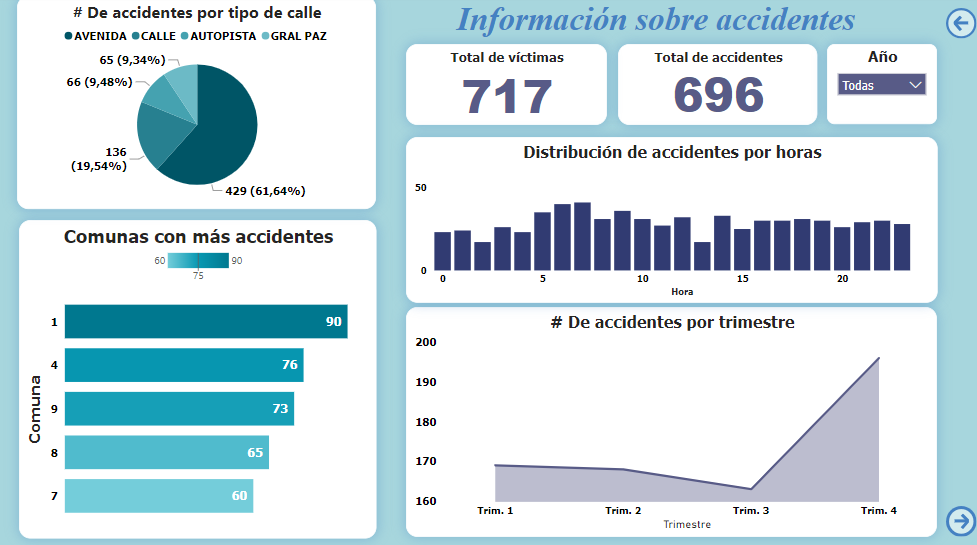

Layout of this report page (visuals, bound fields, positions):
{"tool":"powerbi","page":{"name":"Hechos","canvas":[1280,720],"ordinal":2},"visuals":[{"type":"card","title":"Total de accidentes","fields":{"Values":["CountNonNull(Hechos.N_VICTIMAS)"]},"box":[808.6,62.9,261.4,105.7],"z":0},{"type":"clusteredBarChart","title":"Comunas con más accidentes ","fields":{"Category":["Hechos.COMUNA"],"Y":["CountNonNull(Hechos.N_VICTIMAS)"]},"box":[25,293.3,468.3,416.7],"z":1000},{"type":"stackedAreaChart","title":"# De accidentes por trimestre","fields":{"Category":["Hechos.FECHA.Variación.Jerarquía de fechas.Trimestre"],"Y":["CountNonNull(Hechos.N_VICTIMAS)"]},"box":[531.4,419,695.5,301],"z":2000},{"type":"slicer","title":"Año","fields":{"Values":["Hechos.FECHA.Variación.Jerarquía de fechas.Año"]},"box":[1082.9,63.4,144,105.1],"z":3000},{"type":"card","title":"Total de víctimas","fields":{"Values":["Sum(Hechos.N_VICTIMAS)"]},"box":[531.4,62.9,262.9,105.7],"z":4000},{"type":"pieChart","title":"# De accidentes por tipo de calle","fields":{"Category":["Hechos.TIPO_DE_CALLE"],"Y":["CountNonNull(Hechos.N_VICTIMAS)"]},"box":[22.9,0,470,278.6],"z":5000},{"type":"columnChart","title":"Distribución de accidentes por horas","fields":{"Category":["Hechos.HH"],"Y":["CountNonNull(Hechos.N_VICTIMAS)"]},"box":[531.4,184.3,695.5,217.4],"z":6000},{"type":"textbox","box":[573.1,0,578.9,63.4],"z":7000},{"type":"actionButton","box":[1238.4,668.2,40,40.3],"z":8000},{"type":"actionButton","box":[1238.4,15.8,40,40],"z":9000}]}

Visuals, with their boxes in screenshot pixels (x1, y1, x2, y2), scaled from the page's 1280x720 canvas onto the 977x545 screenshot:
"Total de accidentes" card: crop(617, 48, 817, 128)
"Comunas con más accidentes " clusteredBarChart: crop(19, 222, 377, 537)
"# De accidentes por trimestre" stackedAreaChart: crop(406, 317, 936, 544)
"Año" slicer: crop(827, 48, 936, 128)
"Total de víctimas" card: crop(406, 48, 606, 128)
"# De accidentes por tipo de calle" pieChart: crop(17, 0, 376, 211)
"Distribución de accidentes por horas" columnChart: crop(406, 140, 936, 304)
textbox: crop(437, 0, 879, 48)
actionButton: crop(945, 506, 976, 536)
actionButton: crop(945, 12, 976, 42)
